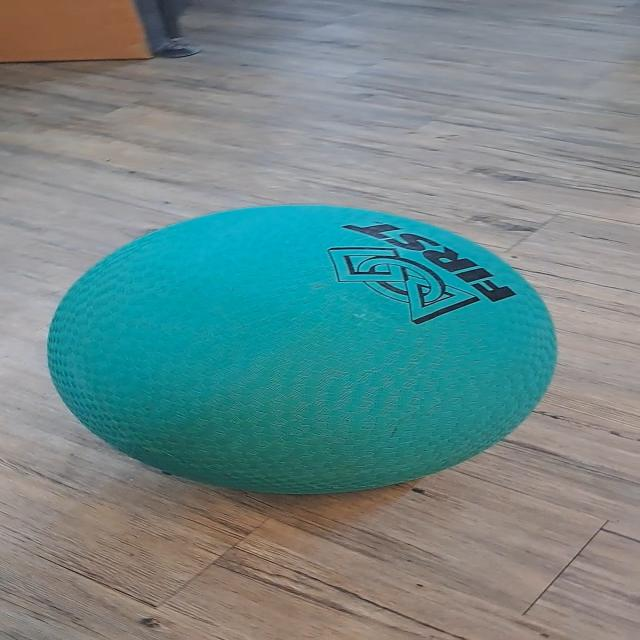ALGAE: (45, 202, 559, 496)
